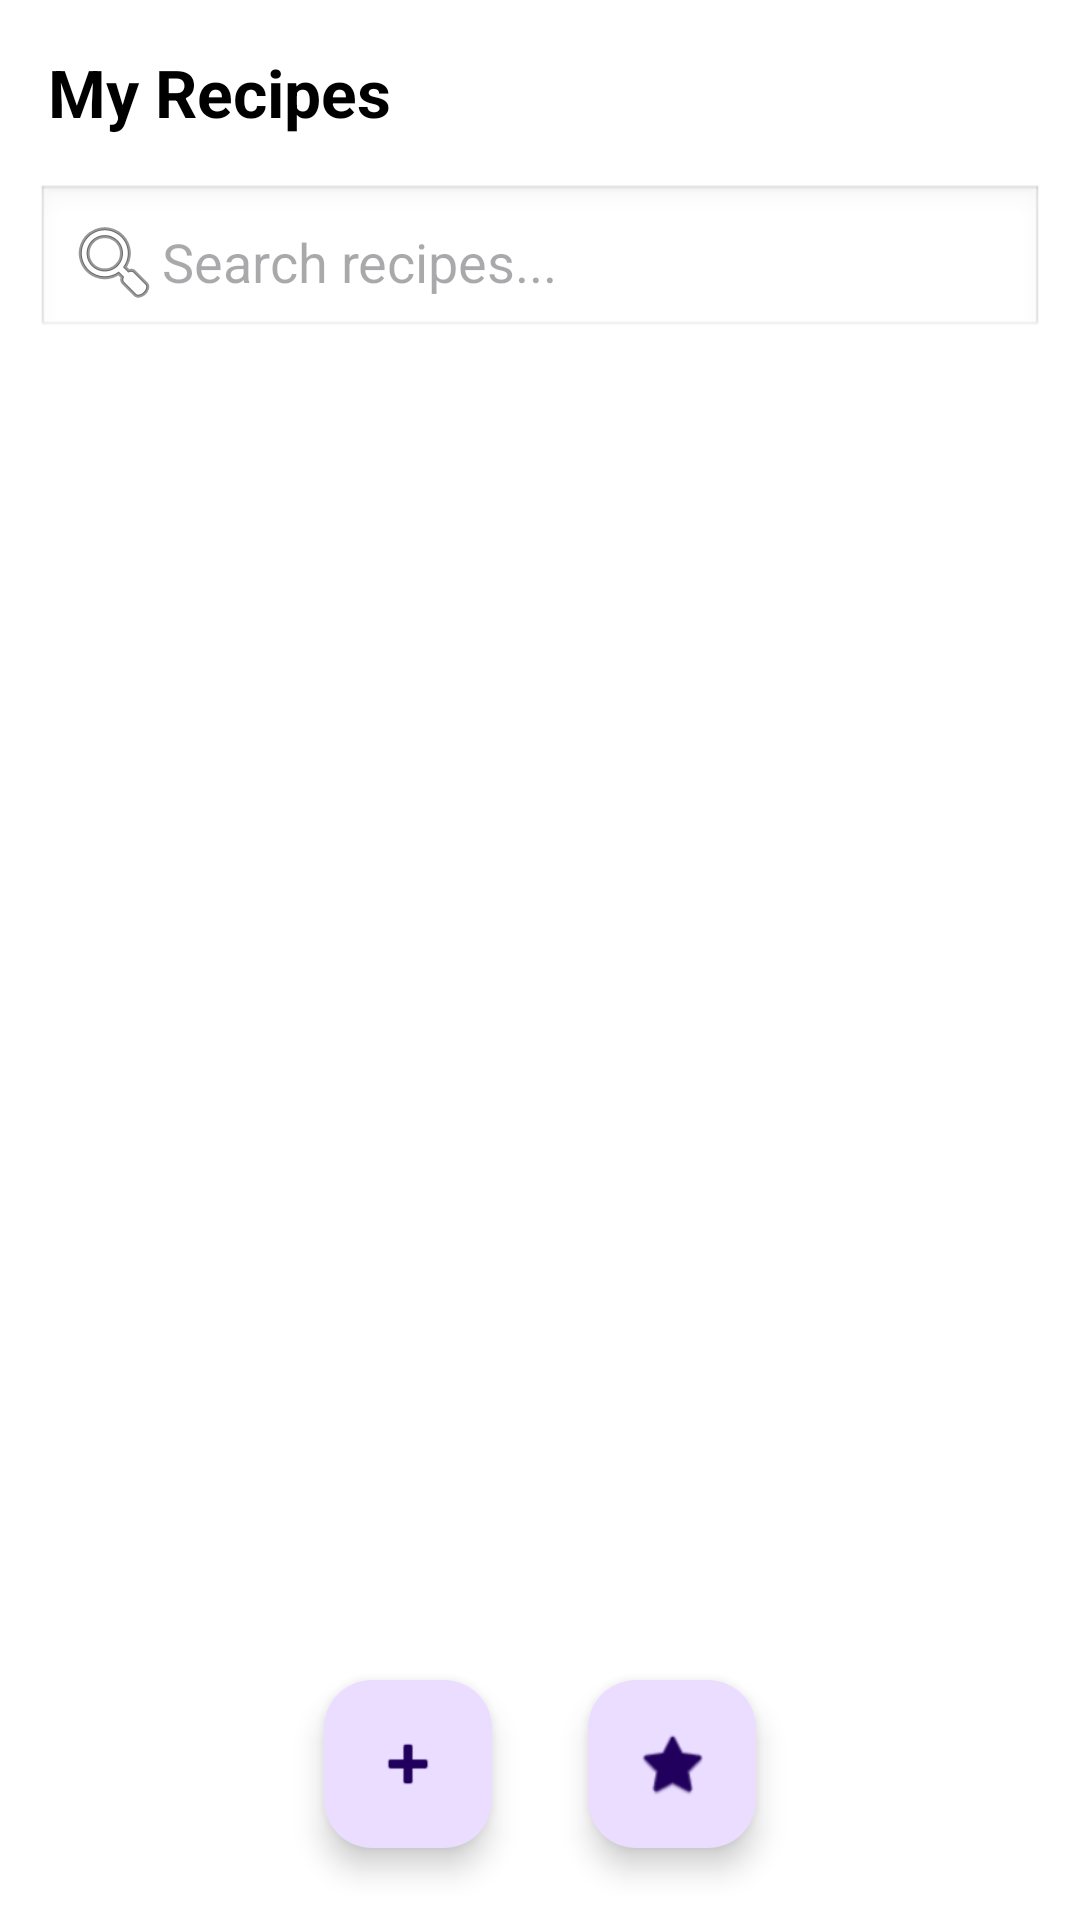

Named icons in this screenshot (1080 × 1920) and their centers, (x,y):
Add Recipe: (408,1764)
Favorite Recipes: (672,1764)
